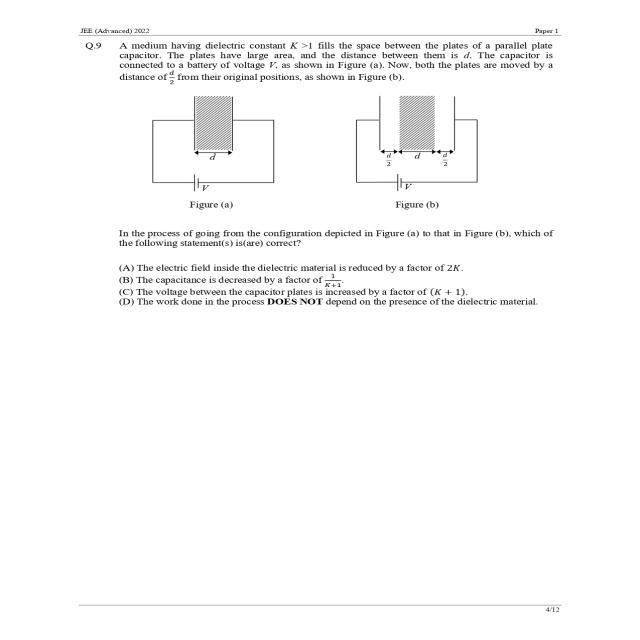Answer_Block: (70, 258, 594, 326)
Question_Answer_Block: (70, 36, 594, 326)
Question_Block: (70, 36, 594, 255)
Question_Paper_Area: (70, 36, 594, 326)
